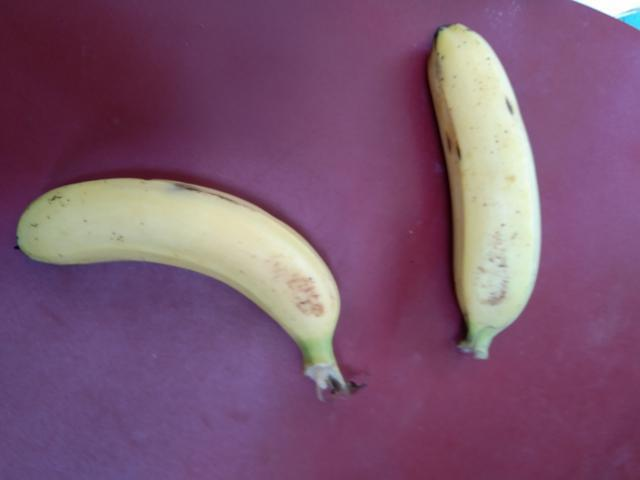ripe: (7, 166, 341, 359), (417, 10, 560, 342)
